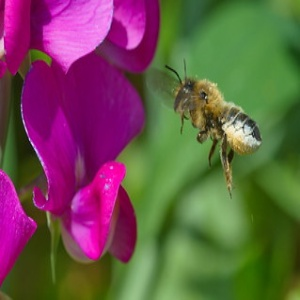bee: (156, 61, 268, 206)
